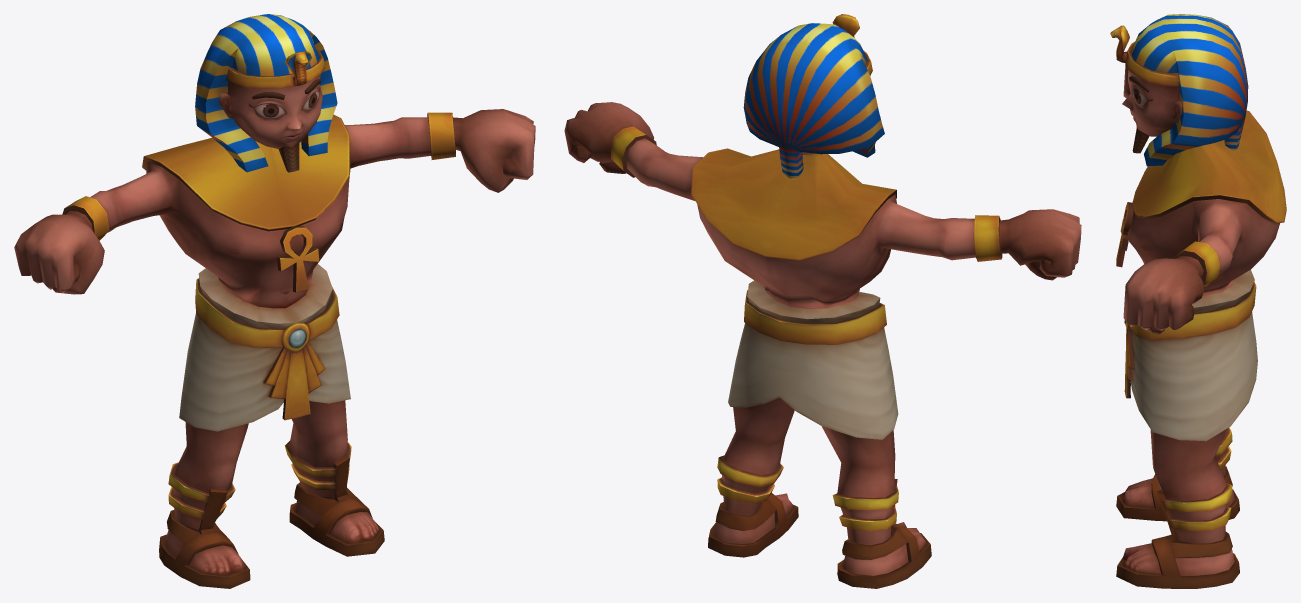
File: FixedEgyptian.fbx
3 renders of one model, left to right at view 1: azimuth 30°, elevation 25°; view 2: azimuth 150°, elevation 25°; view 3: azimuth 270°, elevation 25°, orthographic.
Visible parts, largest first — view 1: egyptian_B; view 2: egyptian_B; view 3: egyptian_B.
Boxes of the visible parts, <box> form: egyptian_B: <box>14,14,535,588</box>; egyptian_B: <box>564,14,1081,588</box>; egyptian_B: <box>1110,14,1286,588</box>.
Size of the model in its own units: 103 by 30.92 by 101.
